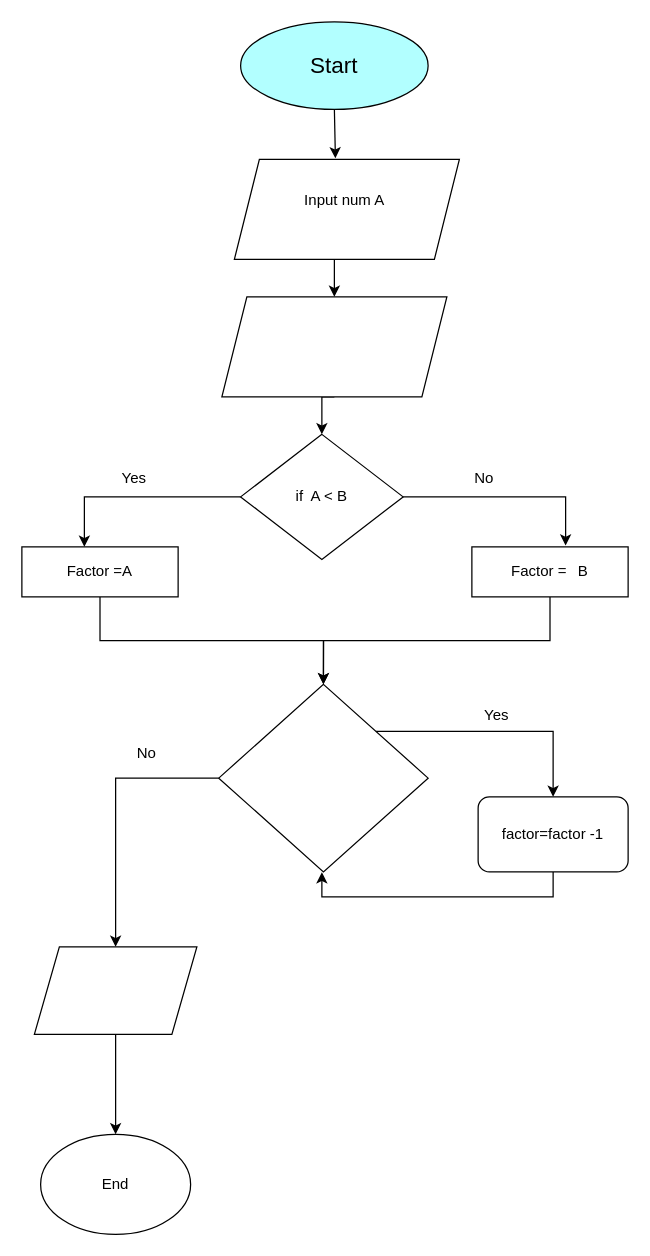
This 650x1256 diagram has some shape labels left out. The shapes that lost their labels are listed below. From the top down, each one's centre as x and y in pixels, then its label:
the point at 334,346: Input num B
the point at 323,777: If num A % factor !=0 OR NUM B% factor !=0
the point at 115,990: Print Highest common factor
